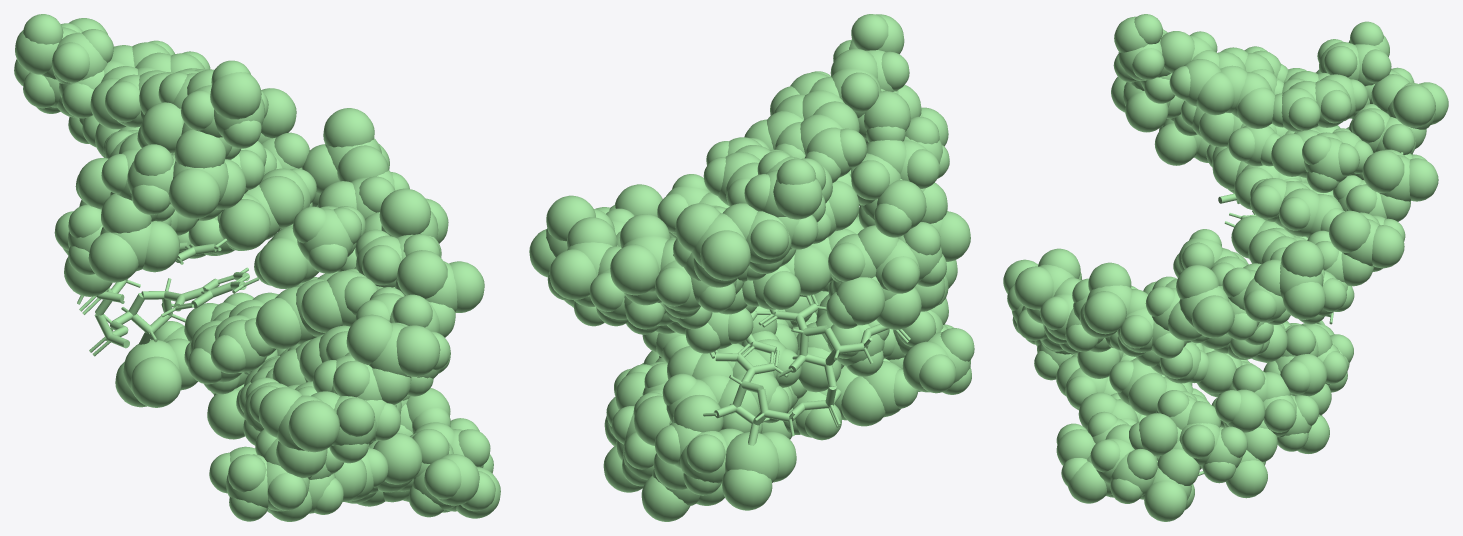
The model's file is VDW 1.fbx.
3 renders of one model, left to right at view 1: azimuth 30°, elevation 25°; view 2: azimuth 150°, elevation 25°; view 3: azimuth 270°, elevation 25°, orthographic. The views are drawn at different scales.
Visible parts, largest first — view 1: Shape_Sphere.186; view 2: Shape_Sphere.186; view 3: Shape_Sphere.186.
Part boxes in pixels (x1,y1,x2,y2): Shape_Sphere.186: [14, 14, 500, 521]; Shape_Sphere.186: [529, 14, 974, 521]; Shape_Sphere.186: [1003, 14, 1448, 521].
Bounding box in the file's own units: 2539 × 3218 × 3126.
